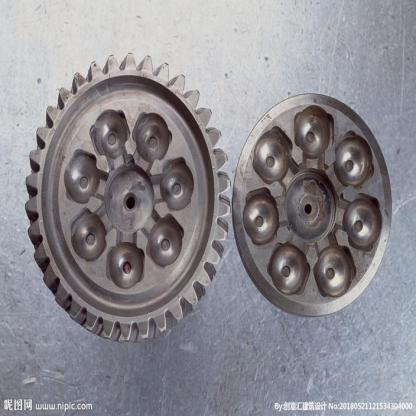FOD: (23, 48, 231, 347)
